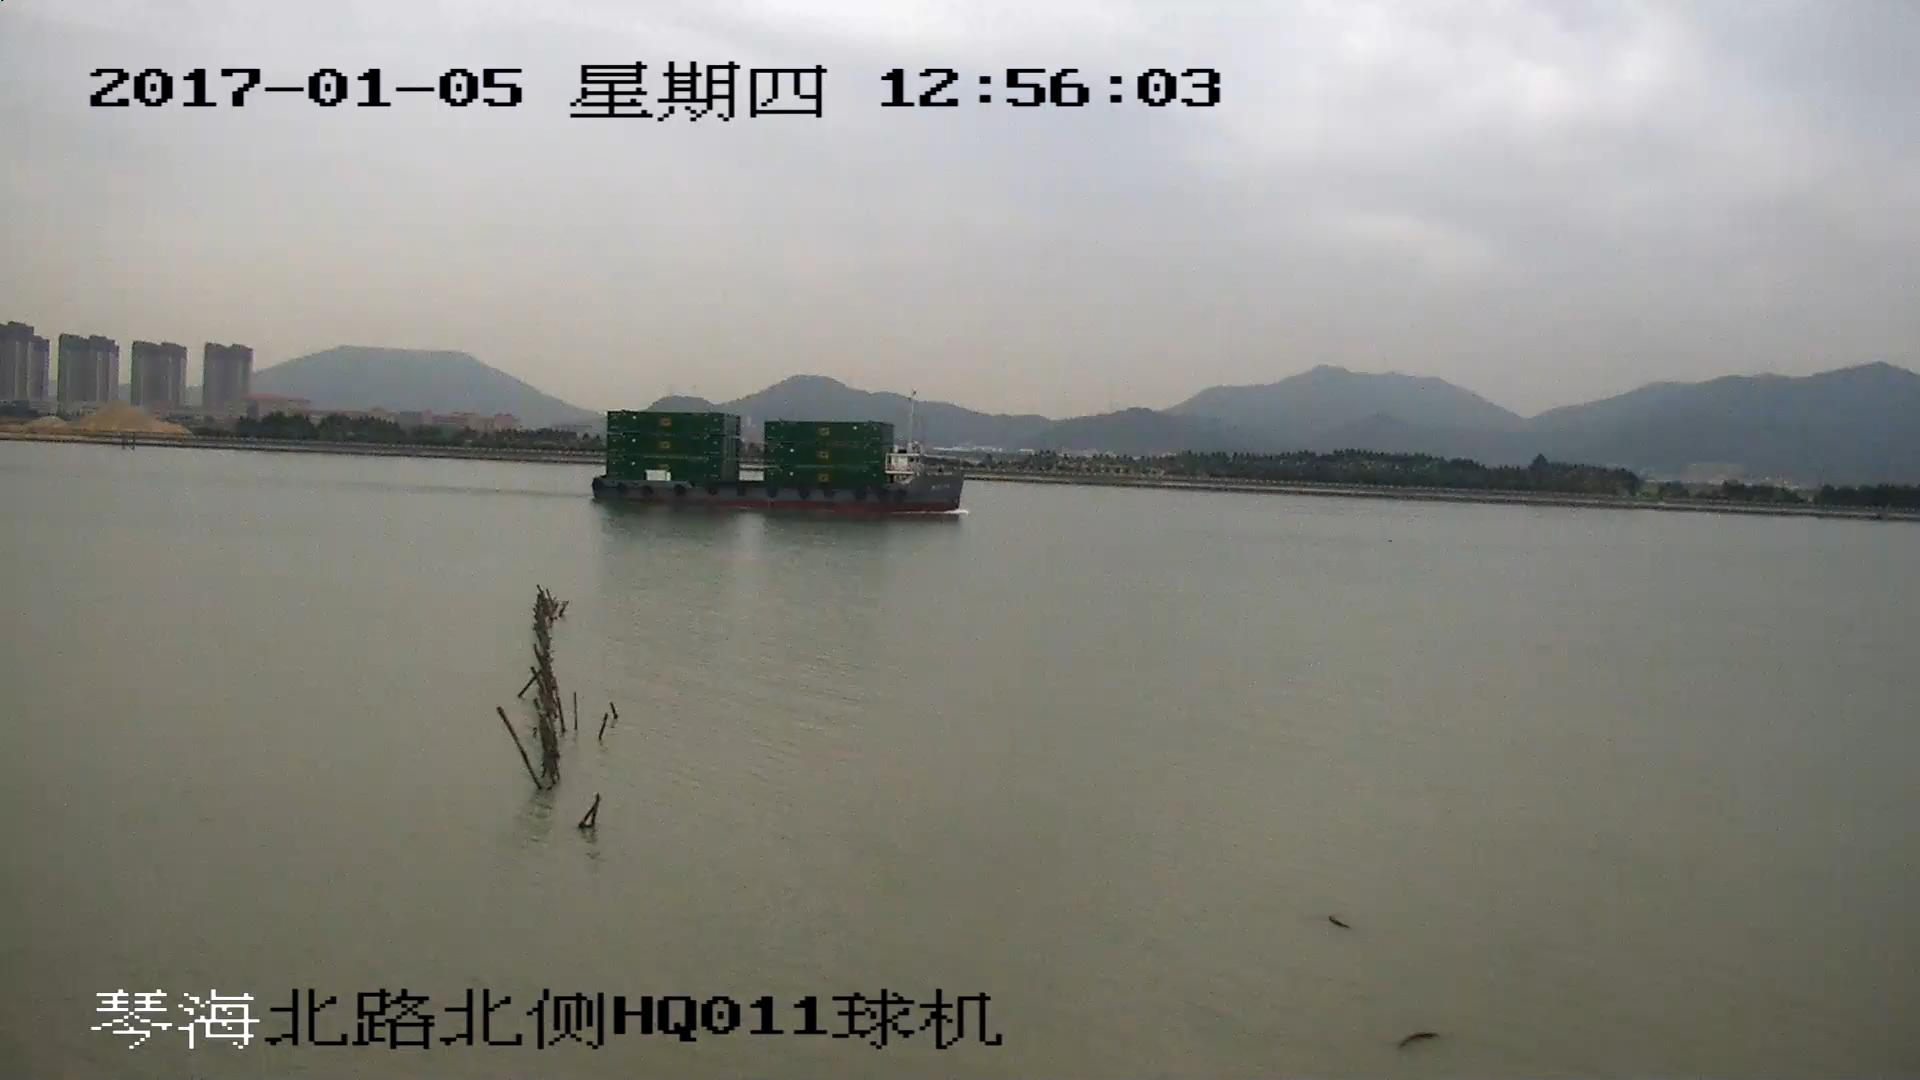container ship: (595, 408, 961, 516)
